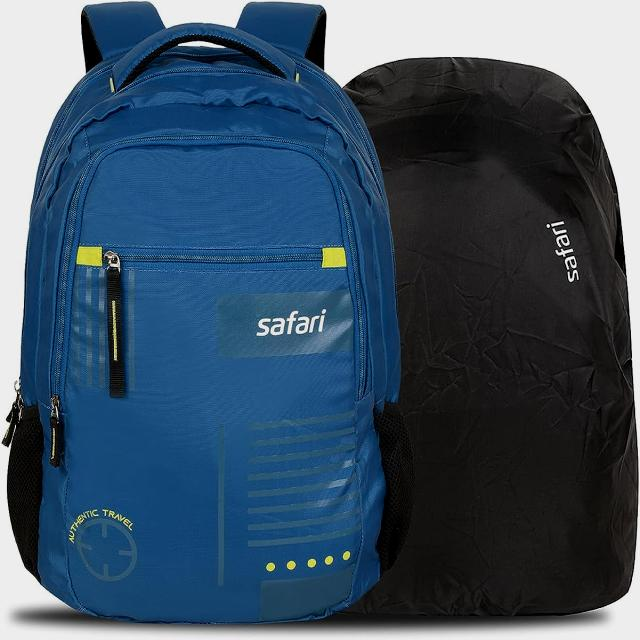backpack: (3, 2, 414, 625)
